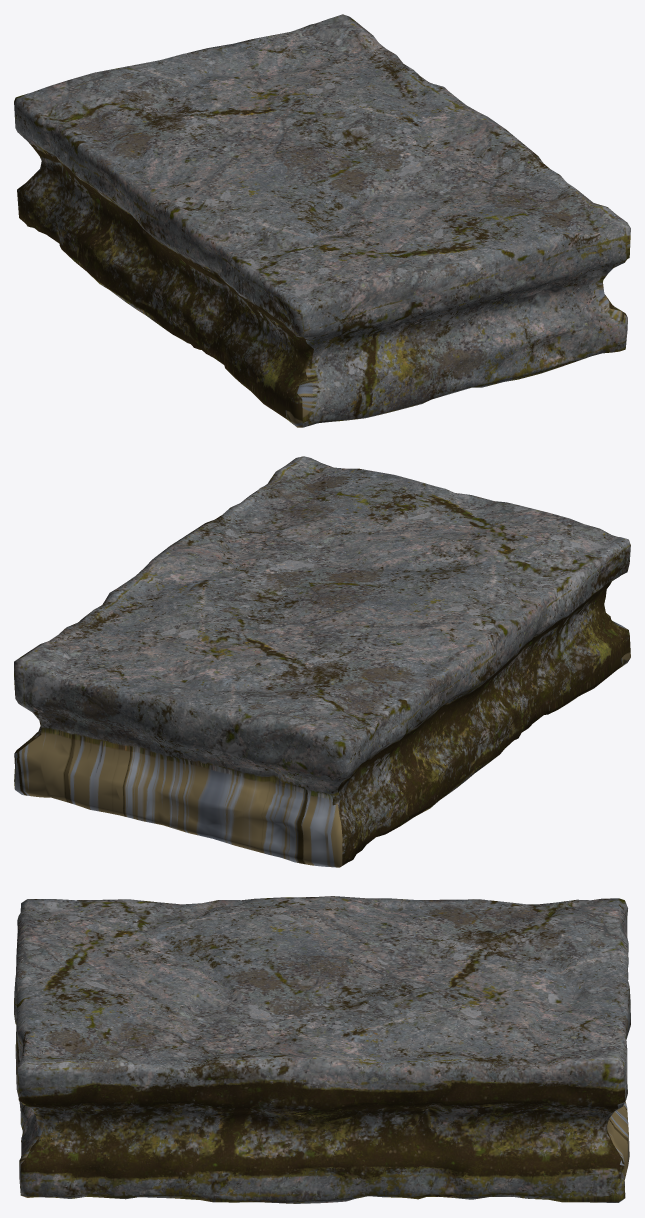
Rendered from SM_StonePlate_C.fbx.
3 renders of one model, top to bottom at view 1: azimuth 30°, elevation 25°; view 2: azimuth 150°, elevation 25°; view 3: azimuth 270°, elevation 25°, orthographic. The views are drawn at different scales.
Visible parts, largest first — view 1: SM_StonePlate_C_LOD0; view 2: SM_StonePlate_C_LOD0; view 3: SM_StonePlate_C_LOD0.
Part boxes in pixels (bbox=[...]): SM_StonePlate_C_LOD0: bbox=[14, 14, 630, 427]; SM_StonePlate_C_LOD0: bbox=[14, 456, 630, 867]; SM_StonePlate_C_LOD0: bbox=[14, 896, 630, 1203].
Size of the model in its own units: 397 by 589 by 155.
